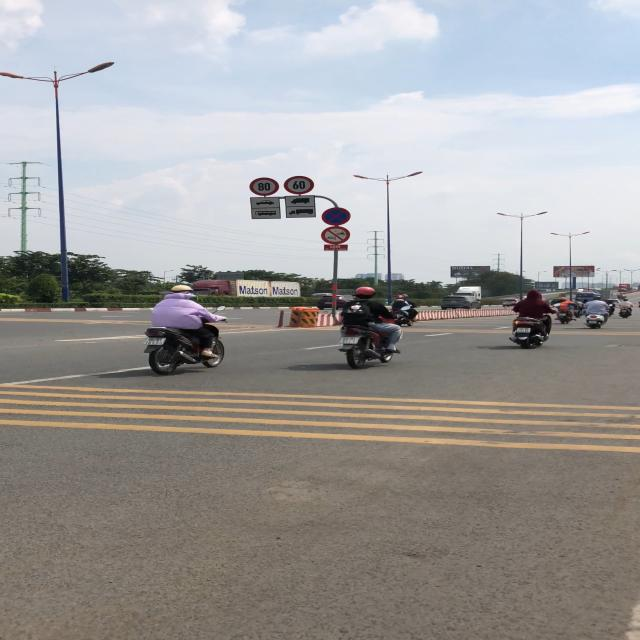Bien bao cam dung xe va do xe: (321, 206, 352, 226)
Bien bao toc do toi da cho phep: (283, 175, 317, 194), (250, 176, 280, 196)
